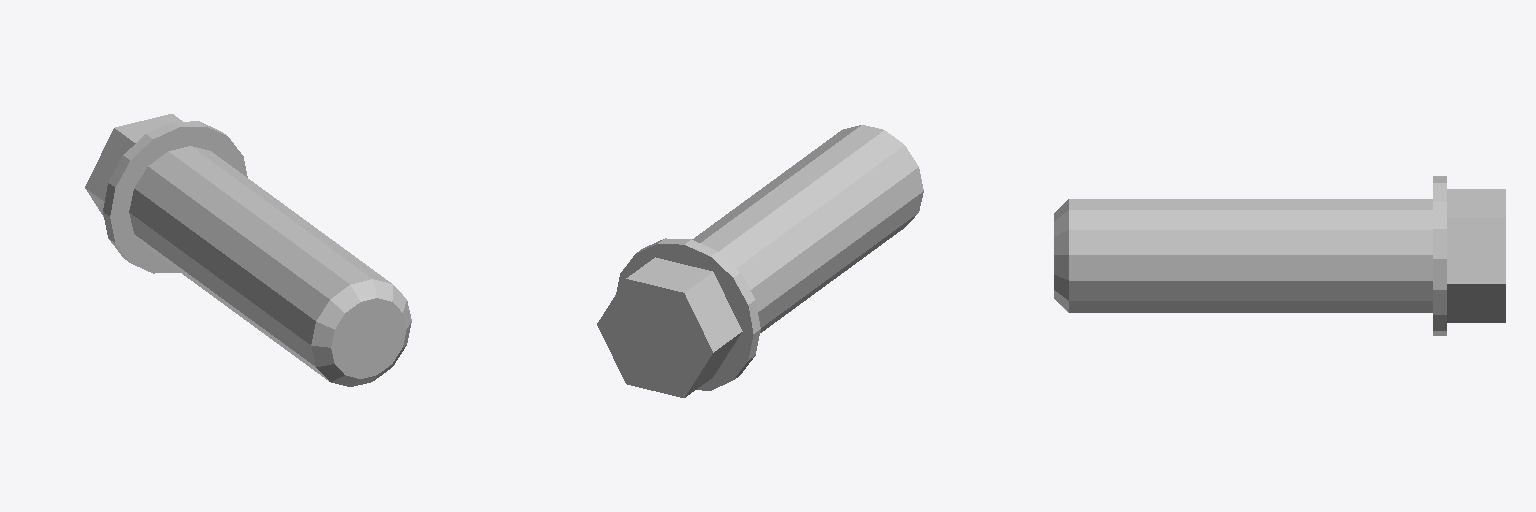
Rendered from Болт крепления выпускного тракта.obj.
3 views of the same model, side by side, from view 1: azimuth 30°, elevation 25°; view 2: azimuth 150°, elevation 25°; view 3: azimuth 270°, elevation 25° (orthographic).
Parts seen in each view (by area): view 1: Болт_крепления_выпускного_тракта; view 2: Болт_крепления_выпускного_тракта; view 3: Болт_крепления_выпускного_тракта.
Part boxes in pixels (x1,y1,x2,y2): Болт_крепления_выпускного_тракта: (85,114,411,386); Болт_крепления_выпускного_тракта: (597,125,923,397); Болт_крепления_выпускного_тракта: (1054,176,1505,335).
Bounding box in the file's own units: 11 × 11 × 31.